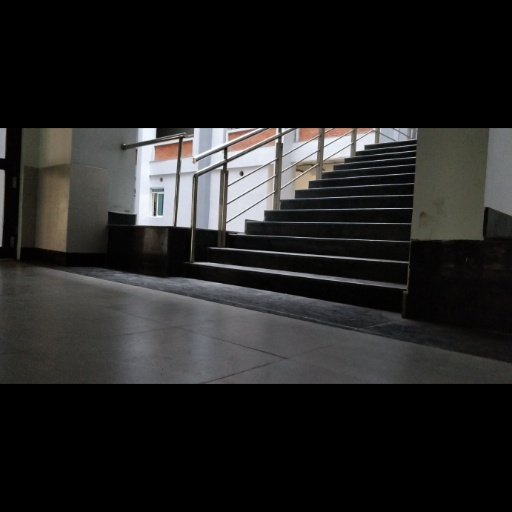Stairs: (185, 142, 416, 311)
